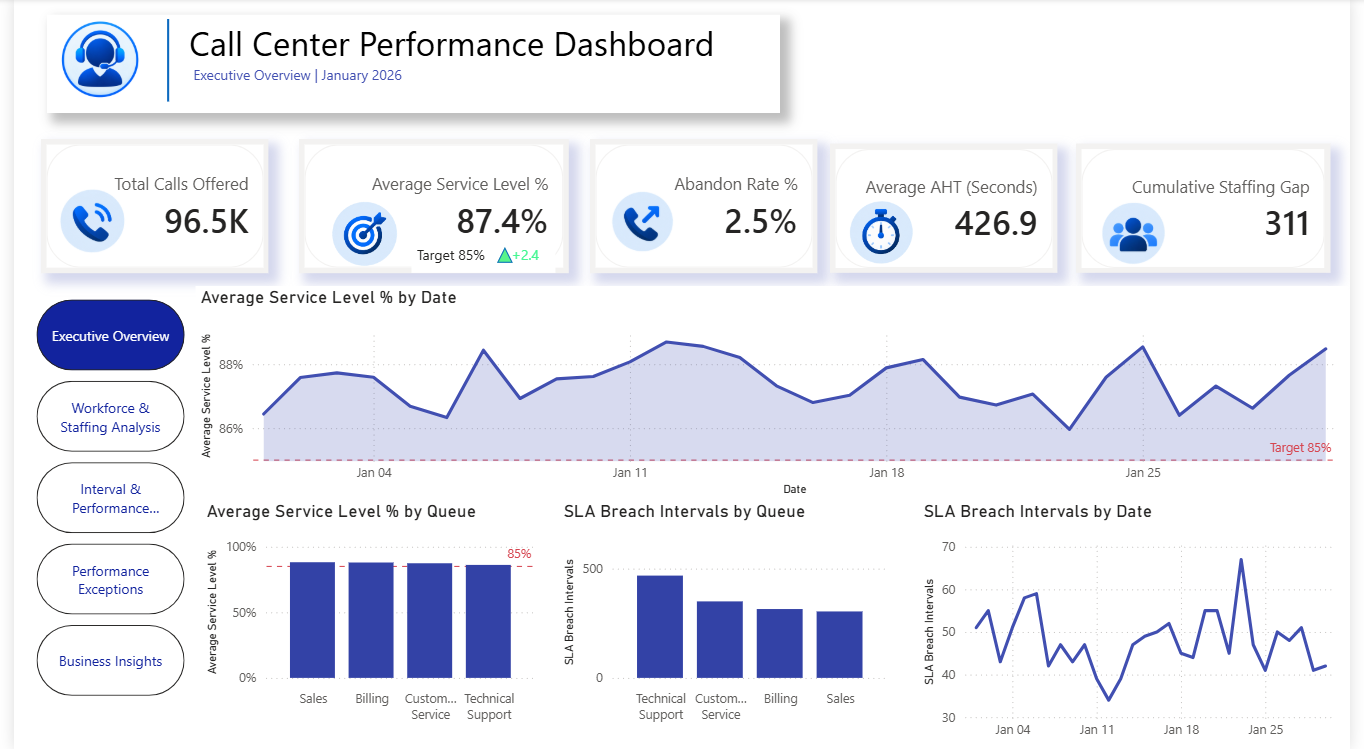

This screenshot's page, from the dashboard's own definition file:
{"tool":"powerbi","page":{"name":"Executive Overview","canvas":[1280,720],"ordinal":0},"visuals":[{"type":"cardVisual","fields":{"Data":["Call Center Data.Total Calls Offered"]},"box":[25.7,134.8,218,128.7],"z":0},{"type":"textbox","box":[381.6,231.7,137.8,31.8],"z":0,"group":"g1"},{"type":"cardVisual","fields":{"Data":["Call Center Data.Avg Service Level %"]},"box":[272.6,134.8,258.9,128.7],"z":1000},{"type":"shape","box":[463.5,238.5,15.1,15.1],"z":1000,"group":"g1"},{"type":"cardVisual","fields":{"Data":["Call Center Data.Abandon Rate %"]},"box":[552.7,134.8,218,128.7],"z":2000},{"type":"cardVisual","fields":{"Data":["Call Center Data.Average AHT (Seconds)"]},"box":[782.8,139.3,218,124.2],"z":3000},{"type":"cardVisual","fields":{"Data":["Call Center Data.Total Staffing Gap"]},"box":[1017.5,139.3,243.8,124.2],"z":4000},{"type":"lineChart","fields":{"Category":["Dim Date.Date"],"Y":["Call Center Data.Avg Service Level %"]},"box":[174.1,275.6,1105.4,205.9],"z":5000},{"type":"clusteredColumnChart","fields":{"Category":["Dim Queue.Queue"],"Y":["Call Center Data.Avg Service Level %"]},"box":[180.2,481.5,325.6,221.1],"z":6000},{"type":"clusteredColumnChart","fields":{"Category":["Dim Queue.Queue"],"Y":["Call Center Data.SLA Breach Intervals"]},"box":[522.4,481.5,321,221.1],"z":7000},{"type":"lineChart","fields":{"Category":["Dim Date.Date"],"Y":["Call Center Data.SLA Breach Intervals"]},"box":[867.6,481.5,411.9,237.7],"z":8000},{"type":"textbox","box":[31.8,15.1,702.6,93.9],"z":9000,"group":"g2"},{"type":"group","id":"g1","title":"Group 1","box":[381.6,231.7,137.8,31.8],"z":10000,"group":"g3"},{"type":"shape","box":[25.7,18.8,243.8,79.2],"z":10002,"group":"g2"},{"type":"image","box":[25.7,180.2,98.4,68.1],"z":10003},{"type":"image","box":[269.5,193.8,133.3,66.6],"z":10004,"group":"g3"},{"type":"image","box":[25.7,16.9,113.6,84.7],"z":10006,"group":"g2"},{"type":"image","box":[793.4,193.8,74.2,62.1],"z":10007},{"type":"group","id":"g2","title":"Group 3","box":[25.7,15.1,708.6,93.9],"z":10008},{"type":"image","box":[552.7,184.7,98.4,62.1],"z":10009},{"type":"image","box":[979.7,193.8,187.8,62.1],"z":10010},{"type":"pageNavigator","box":[21.2,289.2,142.3,384.6],"z":10011},{"type":"group","id":"g3","title":"Group 2","box":[269.5,193.8,249.8,69.7],"z":10012}]}

Visuals, with their boxes in screenshot pixels (x1, y1, x2, y2), scaled from the page's 1280x720 canvas onto the 1364x749 screenshot:
cardVisual - Call Center Data.Total Calls Offered: <box>27,140,260,274</box>
textbox: <box>407,241,553,274</box>
cardVisual - Call Center Data.Avg Service Level %: <box>290,140,566,274</box>
shape: <box>494,248,510,264</box>
cardVisual - Call Center Data.Abandon Rate %: <box>589,140,821,274</box>
cardVisual - Call Center Data.Average AHT (Seconds): <box>834,145,1066,274</box>
cardVisual - Call Center Data.Total Staffing Gap: <box>1084,145,1344,274</box>
lineChart - Dim Date.Date x Call Center Data.Avg Service Level %: <box>186,287,1363,501</box>
clusteredColumnChart - Dim Queue.Queue x Call Center Data.Avg Service Level %: <box>192,501,539,731</box>
clusteredColumnChart - Dim Queue.Queue x Call Center Data.SLA Breach Intervals: <box>557,501,899,731</box>
lineChart - Dim Date.Date x Call Center Data.SLA Breach Intervals: <box>925,501,1363,748</box>
textbox: <box>34,16,783,113</box>
"Group 1" group: <box>407,241,553,274</box>
shape: <box>27,20,287,102</box>
image: <box>27,187,132,258</box>
image: <box>287,202,429,271</box>
image: <box>27,18,148,106</box>
image: <box>845,202,925,266</box>
"Group 3" group: <box>27,16,782,113</box>
image: <box>589,192,694,257</box>
image: <box>1044,202,1244,266</box>
pageNavigator: <box>23,301,174,701</box>
"Group 2" group: <box>287,202,553,274</box>
